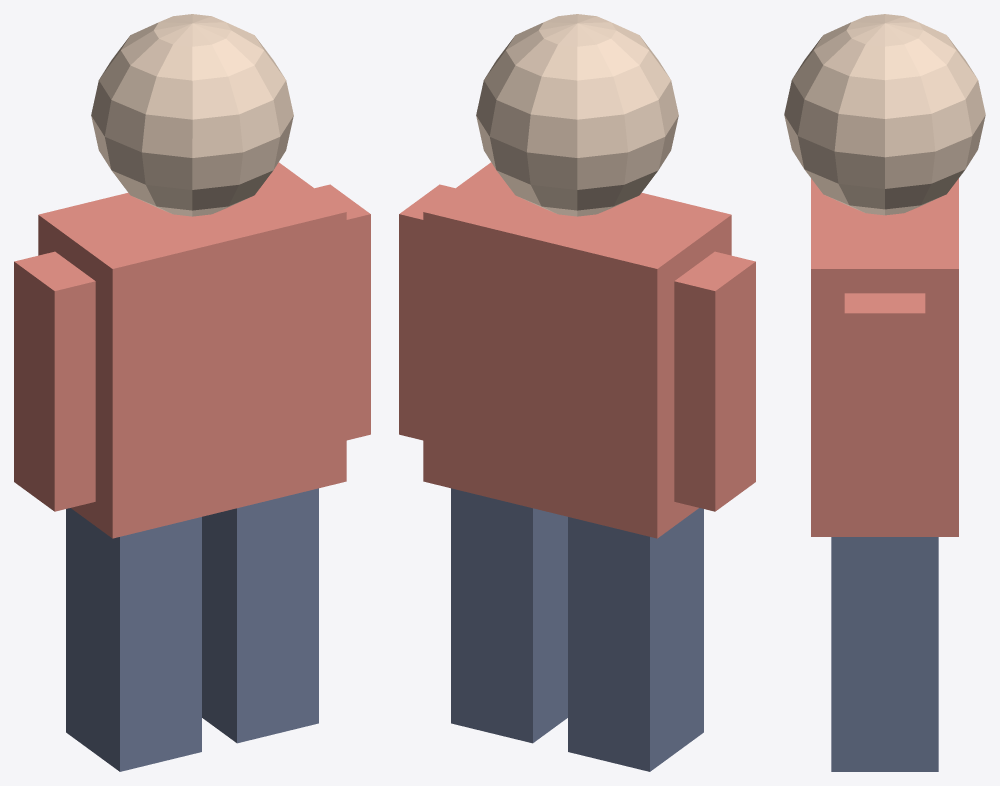
File: citizen_a.glb
3 views of the same model, side by side, from view 1: azimuth 30°, elevation 25°; view 2: azimuth 150°, elevation 25°; view 3: azimuth 270°, elevation 25° (orthographic).
Visible parts, largest first — view 1: box, box.001, sphere, box.003, box.002, box.004; view 2: box, box.001, sphere, box.003, box.002, box.004; view 3: sphere, box, box.003, box.004.
Boxes of the visible parts, x1,y1,x2,y2 form: box: (38, 162, 346, 538); box.001: (66, 508, 201, 771); sphere: (91, 14, 293, 216); box.003: (202, 488, 318, 743); box.002: (14, 251, 95, 511); box.004: (315, 184, 370, 440); box: (423, 162, 731, 538); box.001: (568, 508, 703, 771); sphere: (476, 14, 678, 216); box.003: (451, 488, 567, 743); box.002: (674, 251, 755, 511); box.004: (399, 184, 454, 440); sphere: (784, 14, 985, 215); box: (811, 178, 958, 536); box.003: (831, 537, 938, 771); box.004: (844, 293, 925, 532).
Bounding box in the file's own units: 0.27 × 0.575 × 0.15.
